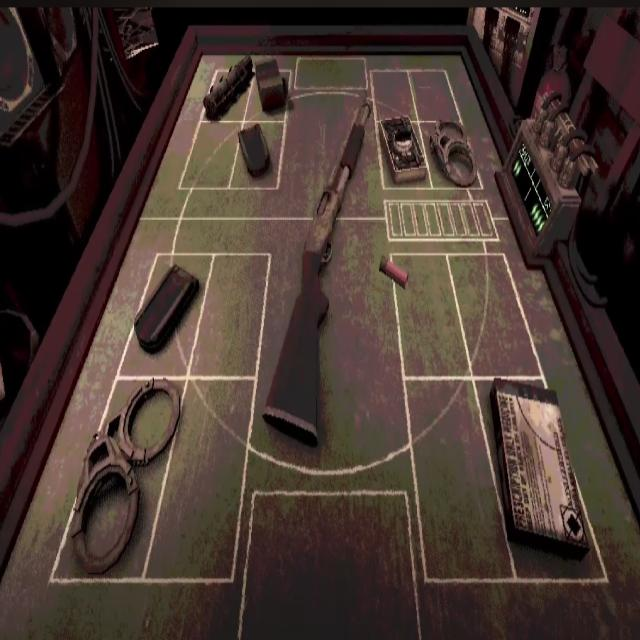changepolarity: (376, 116, 429, 182)
cigar: (255, 59, 288, 110)
expired-medicine: (490, 378, 589, 553)
handcuff: (70, 377, 181, 573), (430, 121, 477, 187)
phone: (134, 264, 200, 353), (238, 122, 270, 177)
